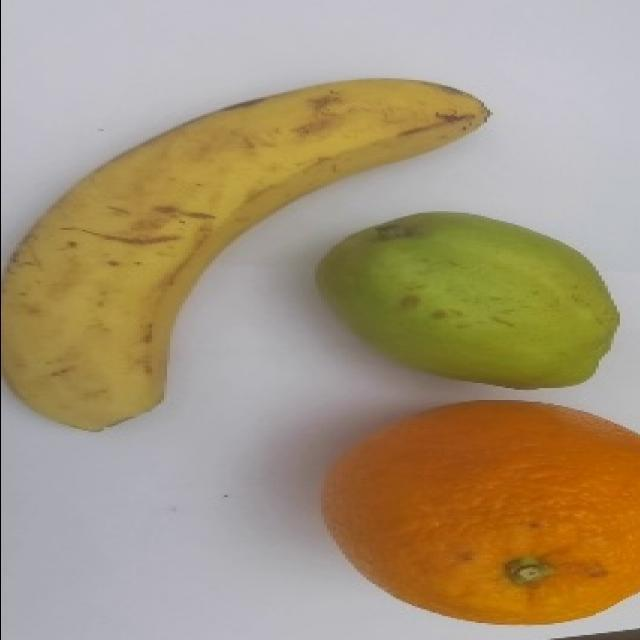Banana: (0, 75, 491, 431)
Orange: (321, 398, 639, 625)
